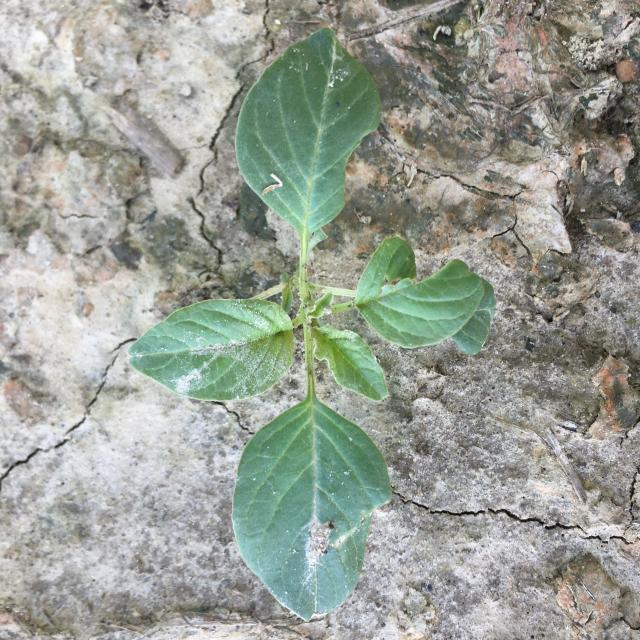PalmerAmaranth: (128, 28, 497, 623)
